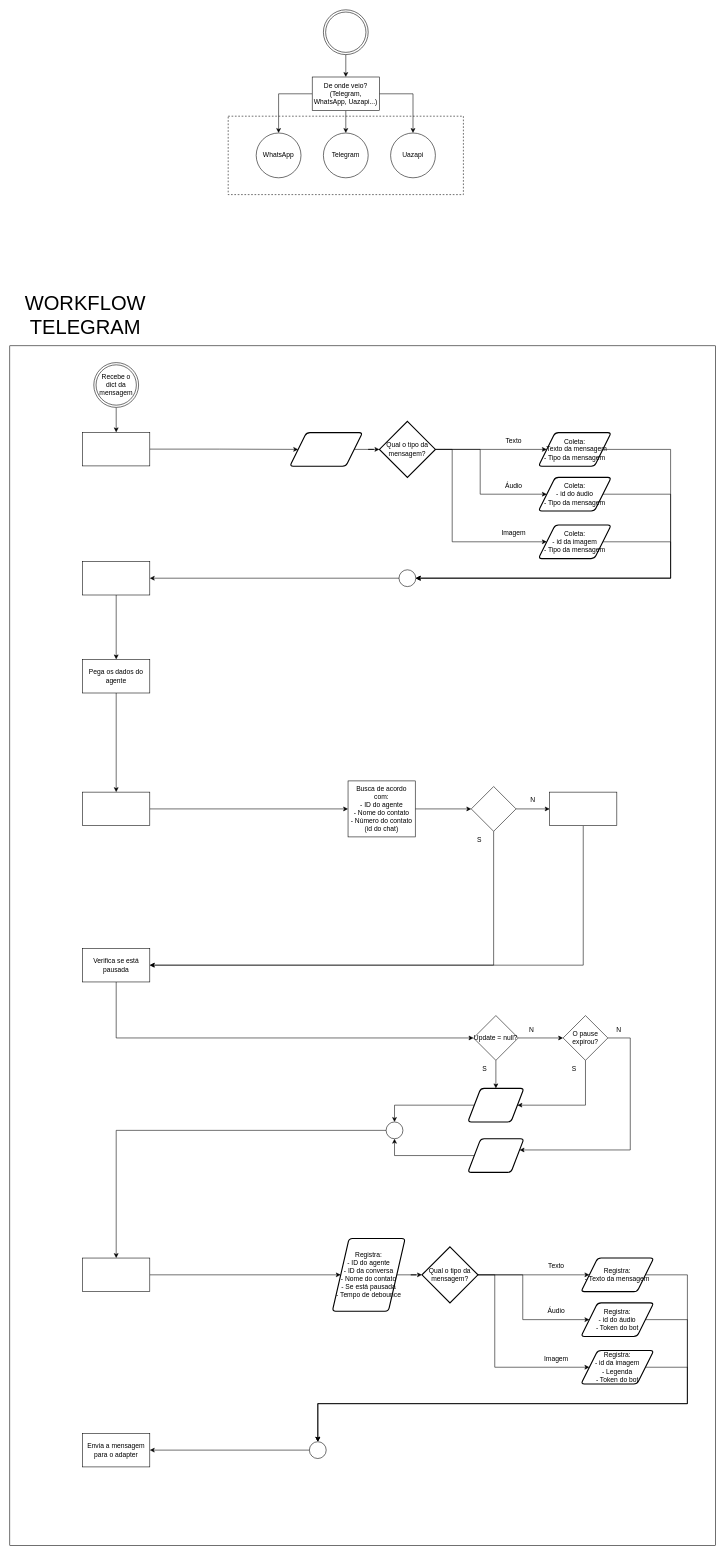
This 725x1555 diagram has some shape labels left out. The shapes that lost their labels are listed below. From the top down, each one's box as (x1, y1, x2, y2) in pixels, then its label:
(323, 9, 368, 55): Mensagem chega via API
(82, 432, 150, 466): Pega os dados da mensagem
(289, 432, 363, 466): Coleta: - ID do chat - nome do contato
(82, 561, 150, 595): Pega os dados do banco de dados
(82, 792, 150, 826): Cria ou busca a conversa
(471, 786, 516, 831): Encontrou?
(549, 792, 617, 826): Cria a conversa e salva
(467, 1088, 524, 1122): Não está pausada
(467, 1138, 524, 1173): Está pausada
(82, 1257, 150, 1292): Prepara os campos para enviar para o próximo passo
